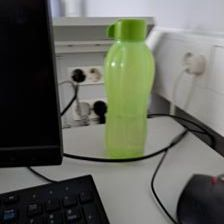bottle: (99, 15, 156, 162)
